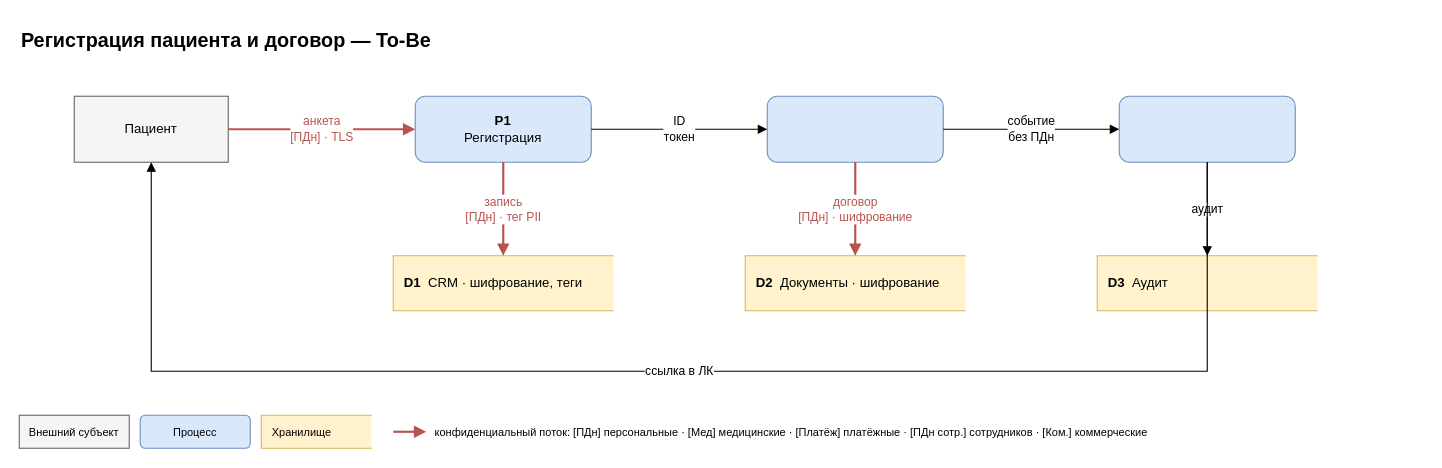
Image size: 1442x468. Some labels were removed from this diagram. The centre of each missing label's shape, as x and y in pixels:
"P2 Договор" belongs at (x=854, y=128).
"P3 Уведомление" belongs at (x=1206, y=128).
